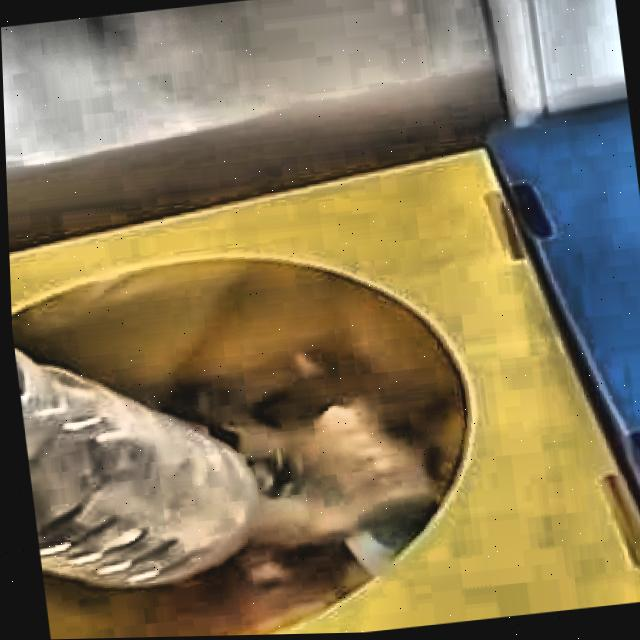plastic: (12, 351, 249, 588)
